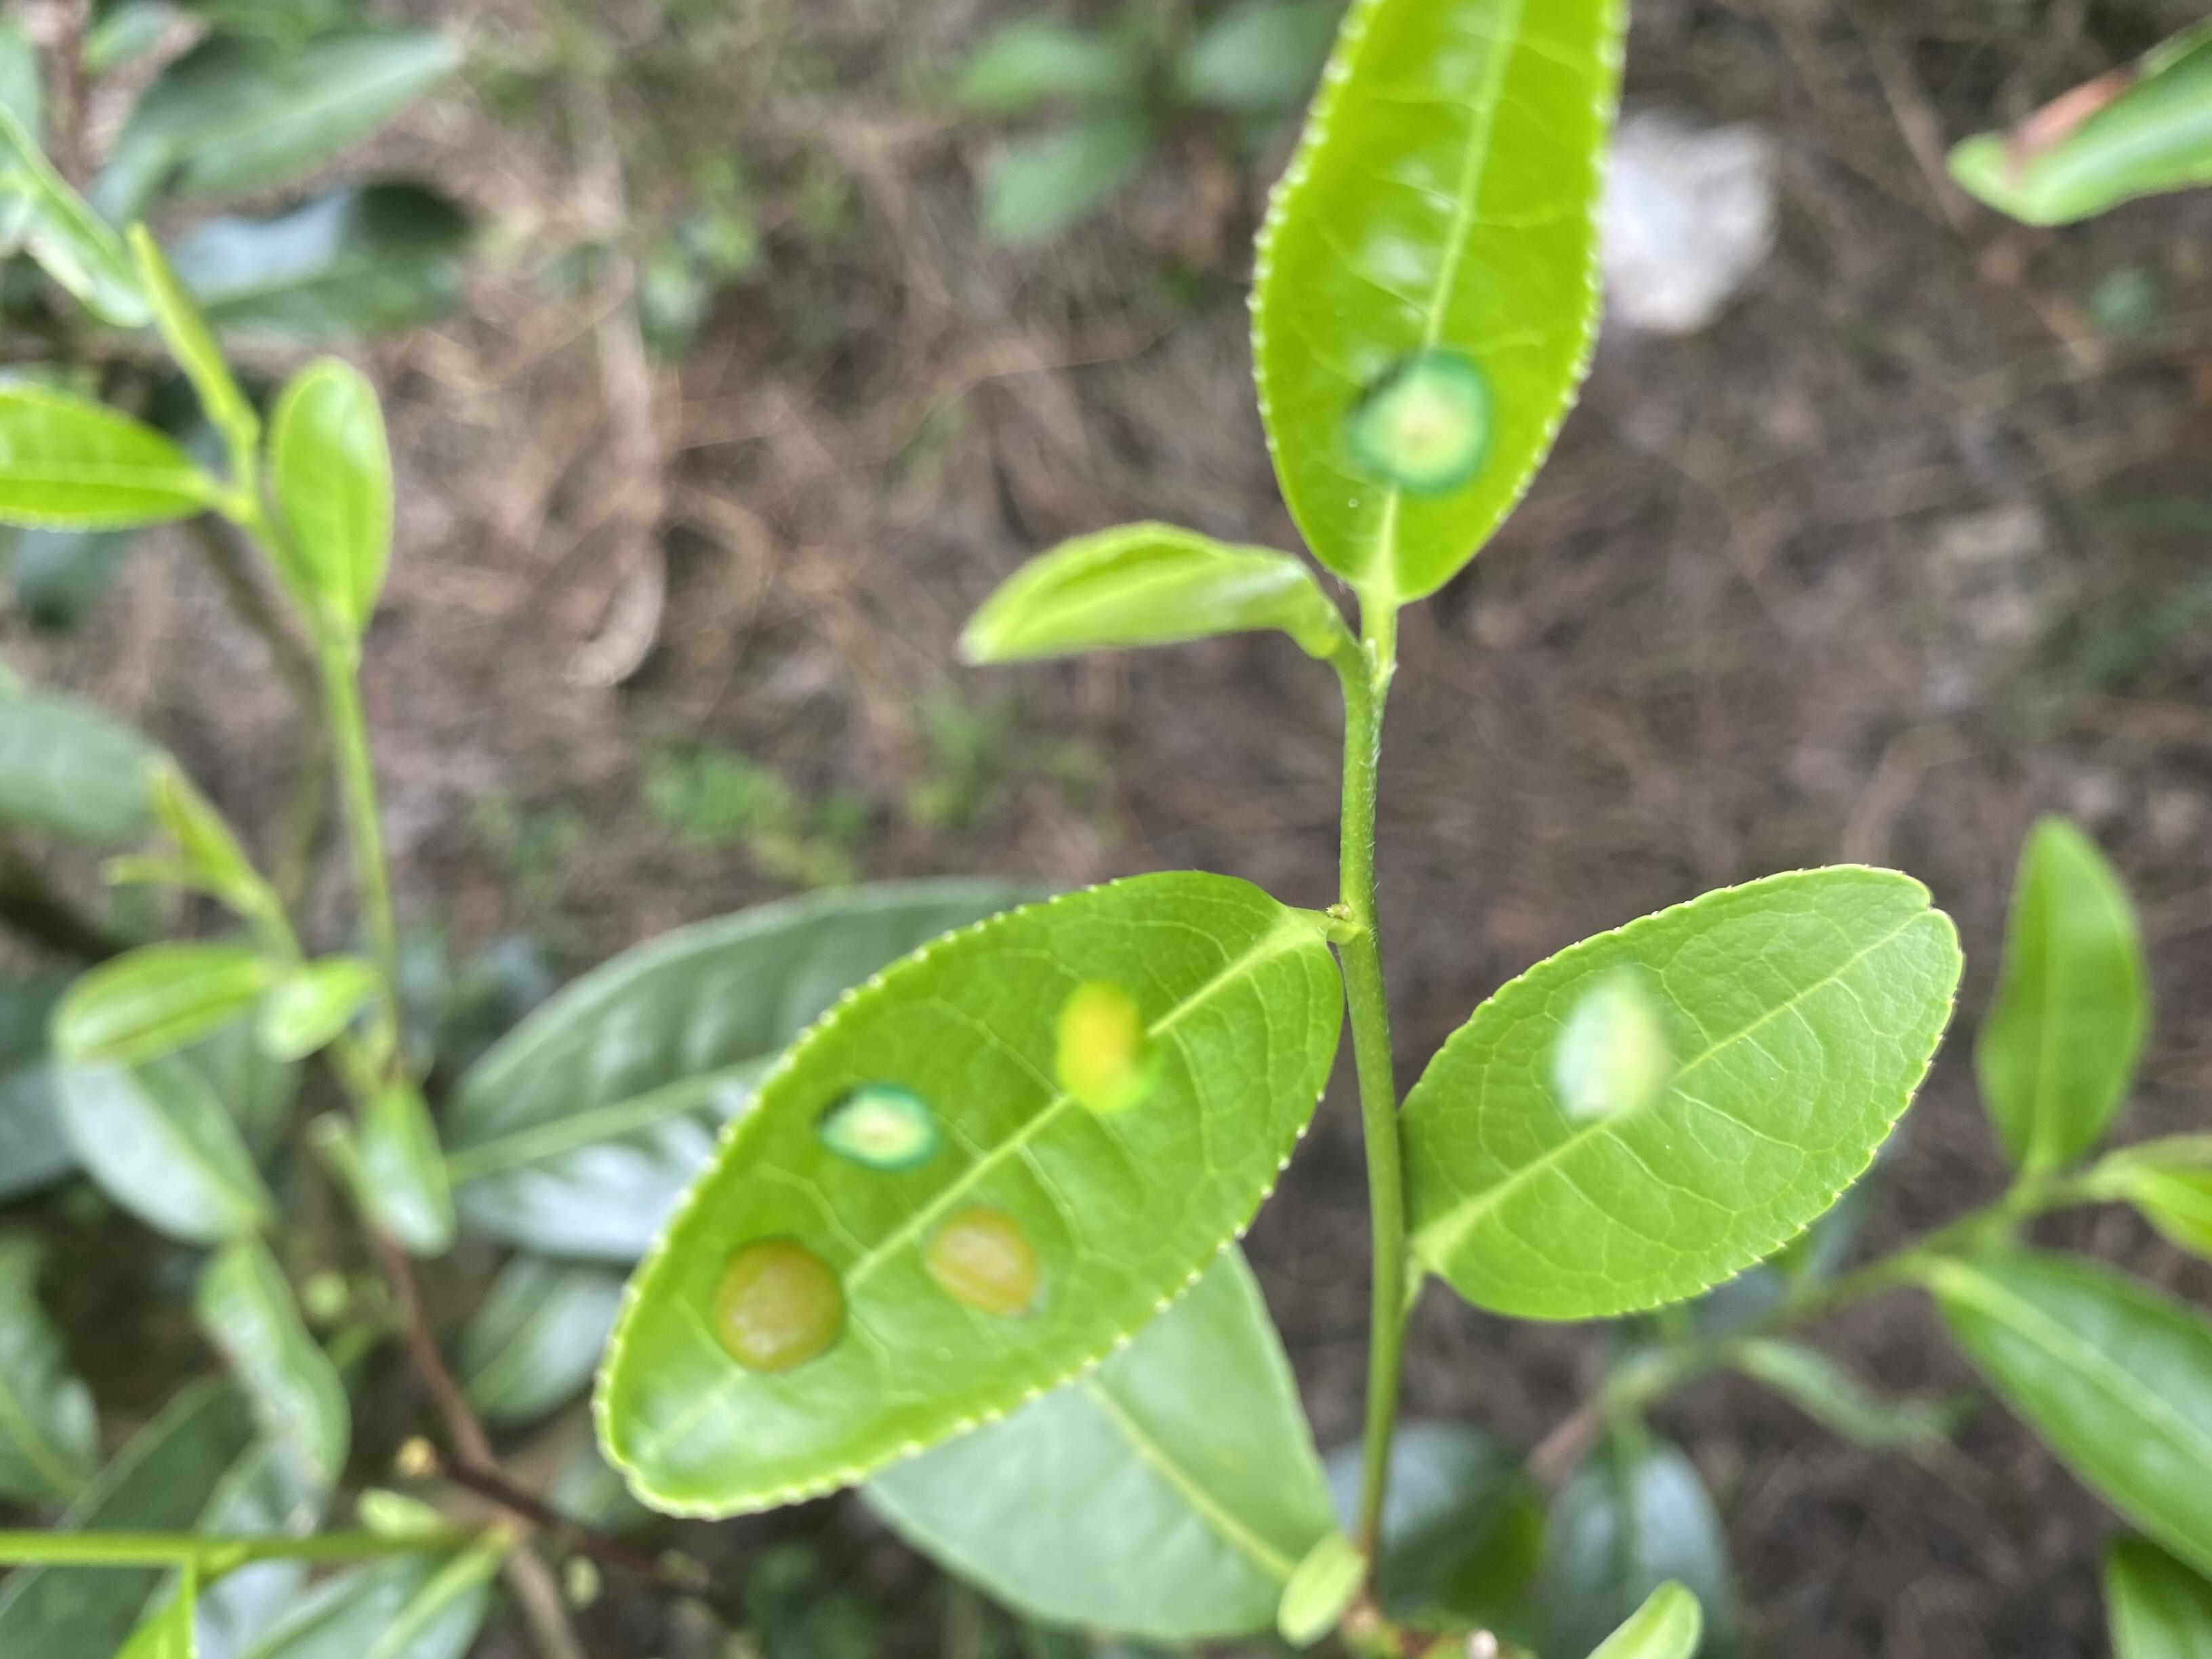chabing_high: (592, 868, 1348, 1521)
chabing_low: (1400, 863, 1961, 1319), (1244, 2, 1623, 610)
